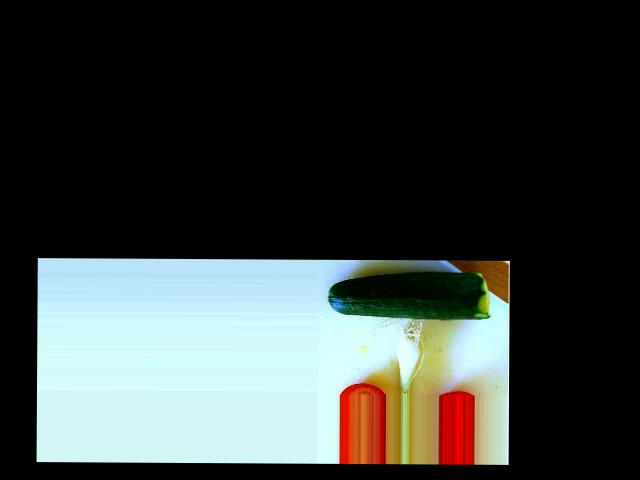cucumber: (326, 270, 490, 318)
